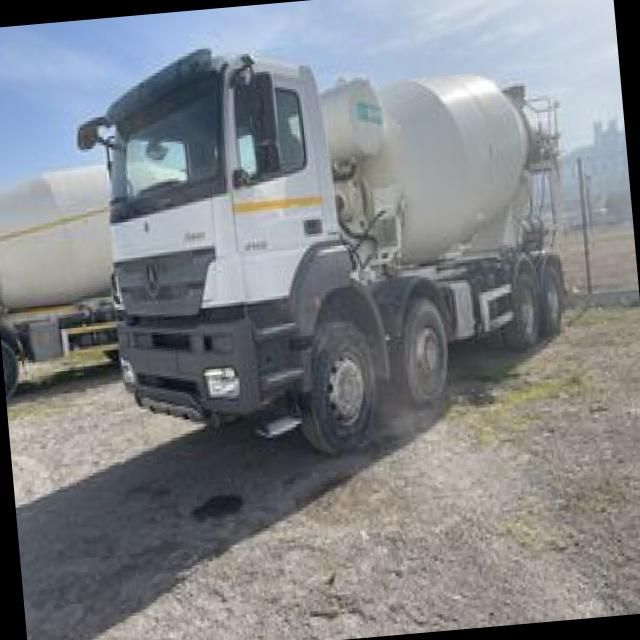Mixer Truck: (67, 12, 591, 478)
